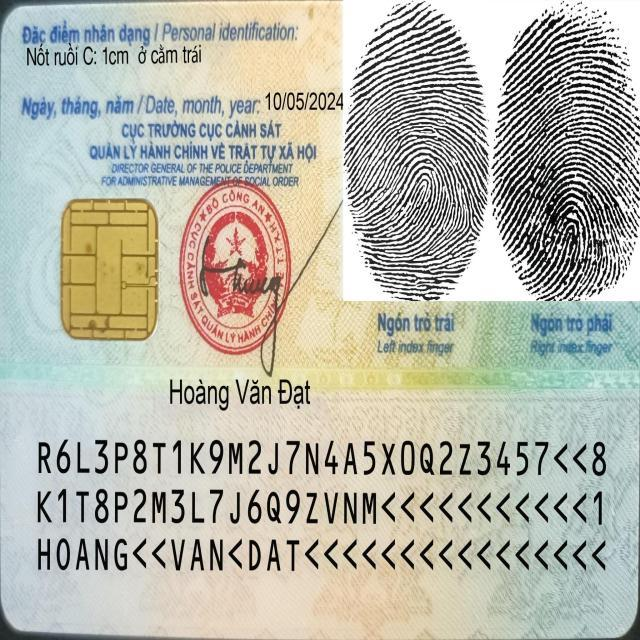features: (22, 40, 215, 72)
finger_print: (490, 0, 640, 358), (341, 0, 487, 361)
issue_date: (263, 83, 345, 116)
